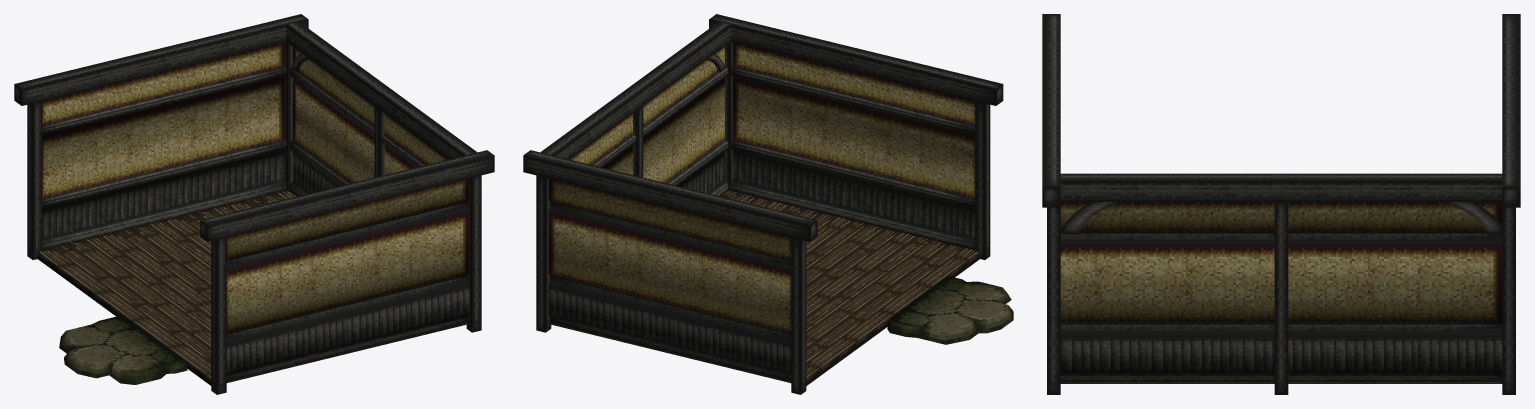
File: EnvBdgMD_Forest_A_Indoor_House_F.FBX
3 views of the same model, side by side, from view 1: azimuth 30°, elevation 25°; view 2: azimuth 150°, elevation 25°; view 3: azimuth 270°, elevation 25° (orthographic). The views are drawn at different scales.
Visible parts, largest first — view 1: EnvBdgMD_Forest_A_Indoor_House_F; view 2: EnvBdgMD_Forest_A_Indoor_House_F; view 3: EnvBdgMD_Forest_A_Indoor_House_F.
Boxes of the visible parts, x1,y1,x2,y2 form: EnvBdgMD_Forest_A_Indoor_House_F: (14, 14, 494, 394); EnvBdgMD_Forest_A_Indoor_House_F: (523, 14, 1013, 394); EnvBdgMD_Forest_A_Indoor_House_F: (1042, 14, 1520, 394).
Bounding box in the file's own units: 1120 × 525 × 1050.
